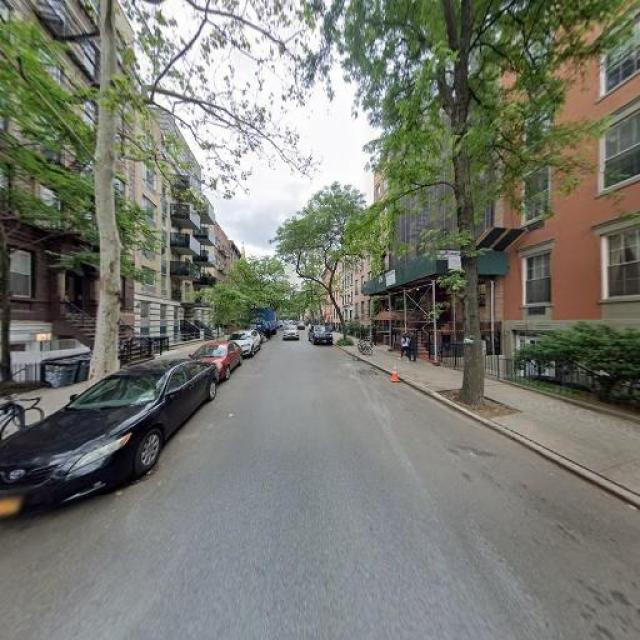Building: (503, 1, 640, 404), (1, 1, 138, 388)
